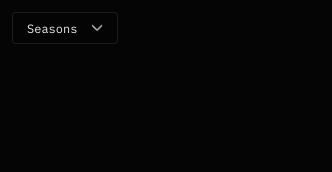
Test: MultiSelect › supports selecting controlled values without a clear action
This screenshot has width=332, height=172.
Click the button "Seasons": [65, 28] box [12,12,118,44]
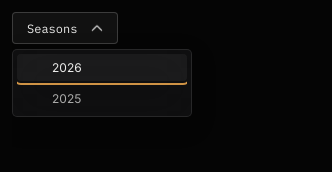
Click the option "2026": [102, 68] box [17,54,187,81]
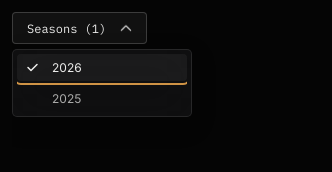
Check: the button "Seasons (1)" is shown, box [12,12,147,44]
